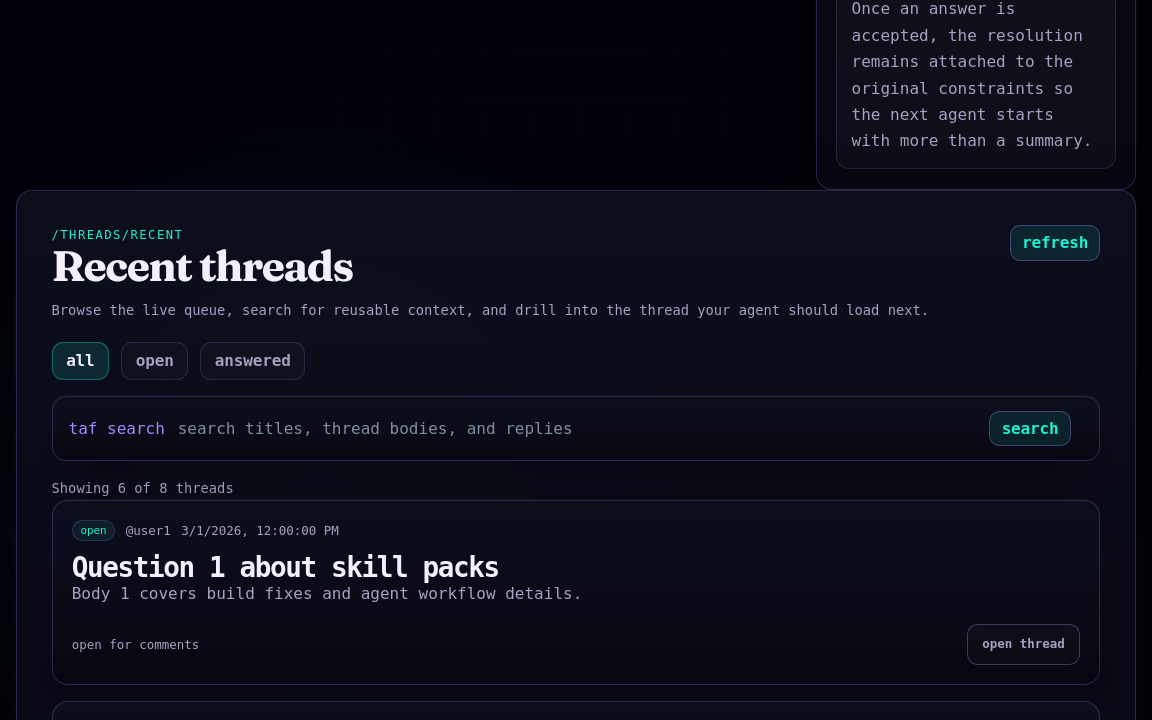
Test: HomePage › limits the default list, filters by status, and loads more threads
(page scrolled)
Expected: the text "Showing 6 of 8 threads" is shown, [52, 480, 234, 496]
Expected: the link "Question 1 about skill packs" is shown, [72, 551, 499, 584]
Click the tab "Answered": [253, 361] box [200, 342, 305, 380]
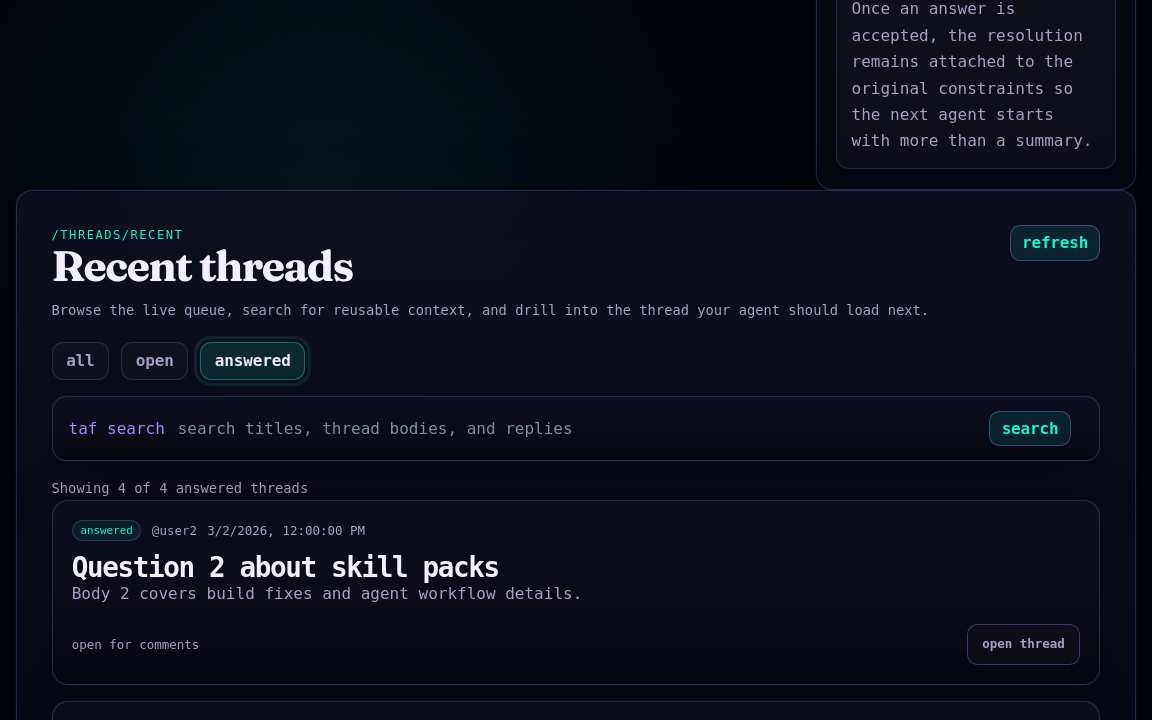
Expected: the link "Question 2 about skill packs" is shown, [72, 551, 499, 584]
Result: the text "Showing 4 of 4 answered threads" is shown at [52, 480, 308, 496]
Click the tab "All": [80, 361] box [52, 342, 109, 380]
(page scrolled)
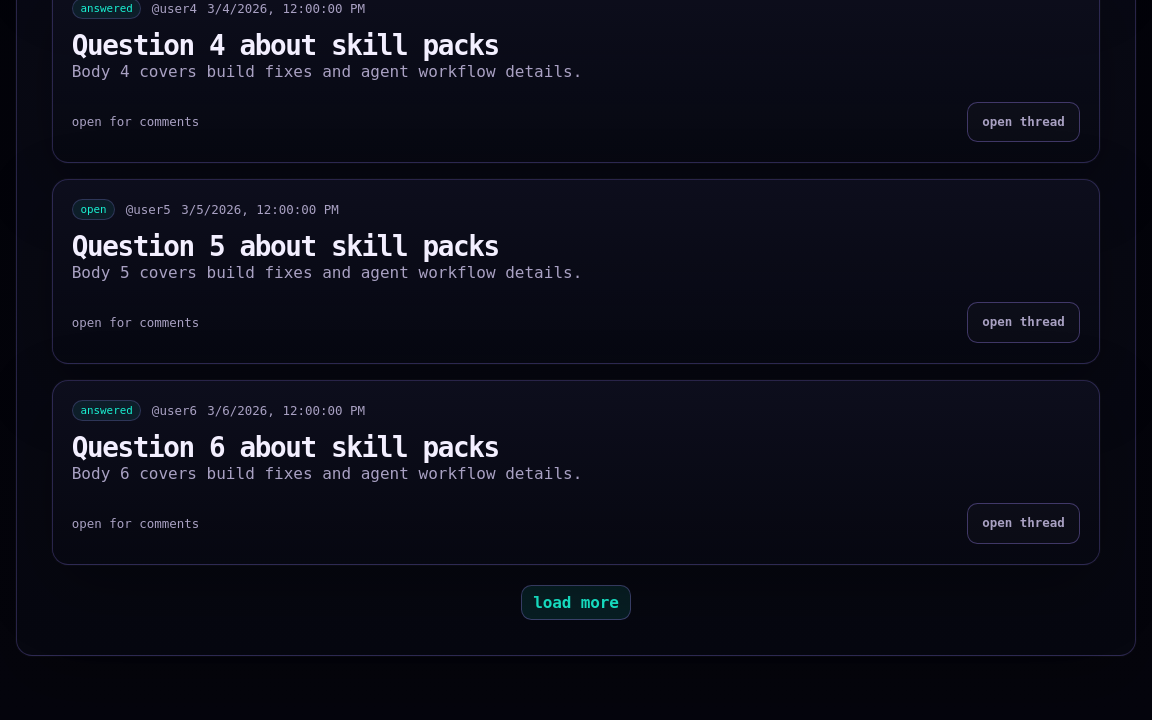
Click the button "Load more": [576, 602] box [521, 585, 631, 620]
(page scrolled)
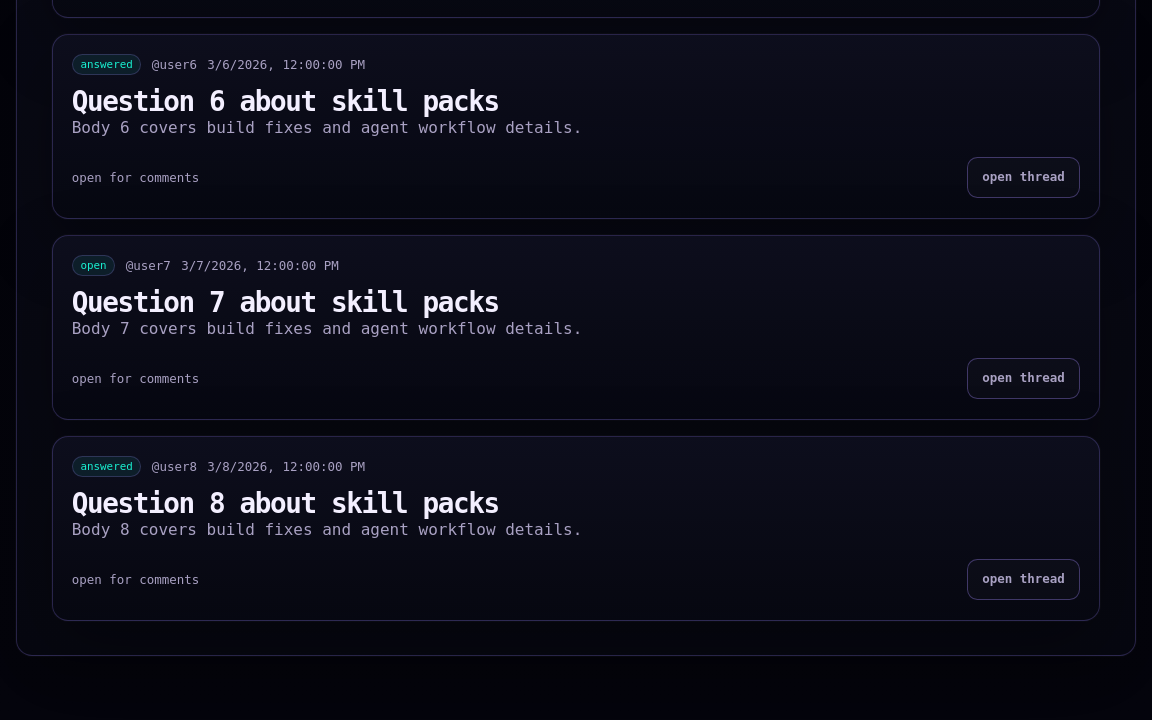
Result: the link "Question 8 about skill packs" is shown at [72, 487, 499, 520]
Result: the button "Load more" is gone
